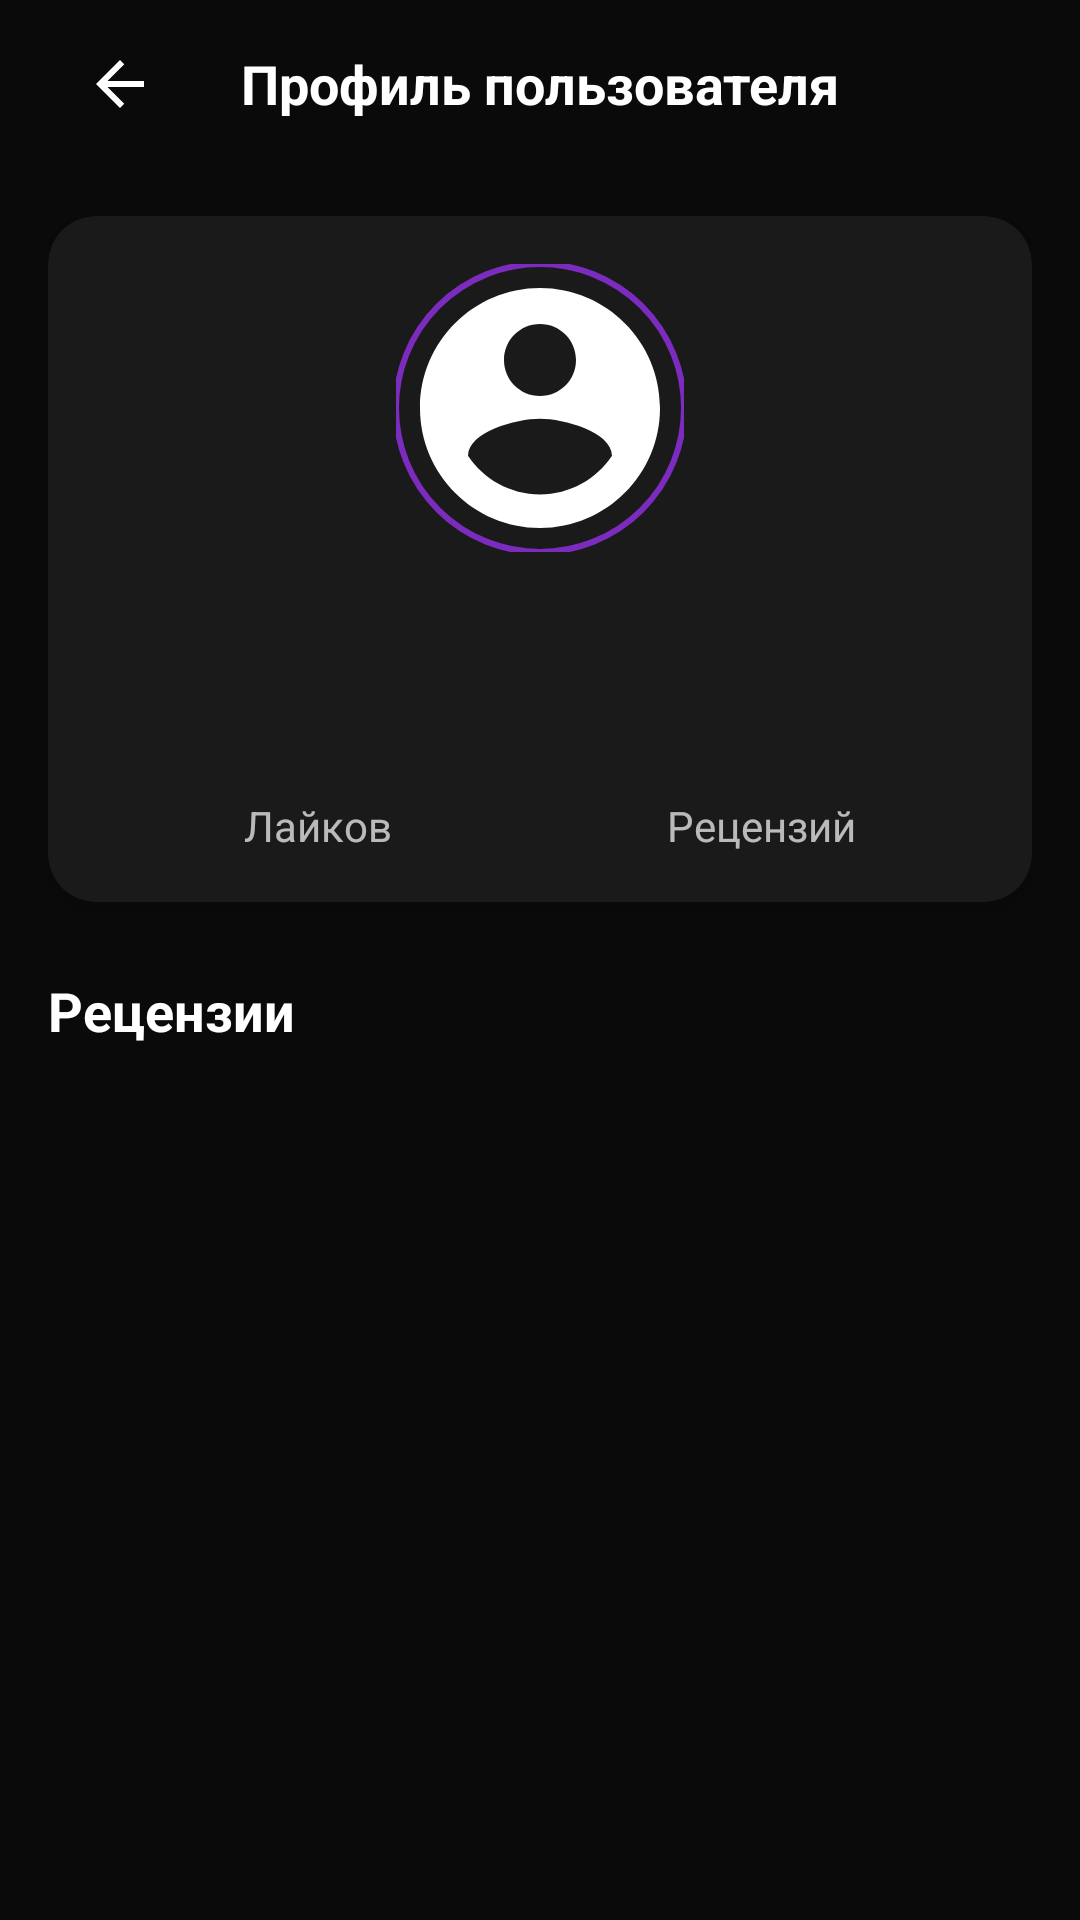

Locate icon controls on the screen. Image size 1080px×1920px, boxes as [x1=x1, y1=y1, x2=x2, y2=y2].
back: [x1=96, y1=60, x2=144, y2=108]
profile: [x1=396, y1=264, x2=684, y2=552]
